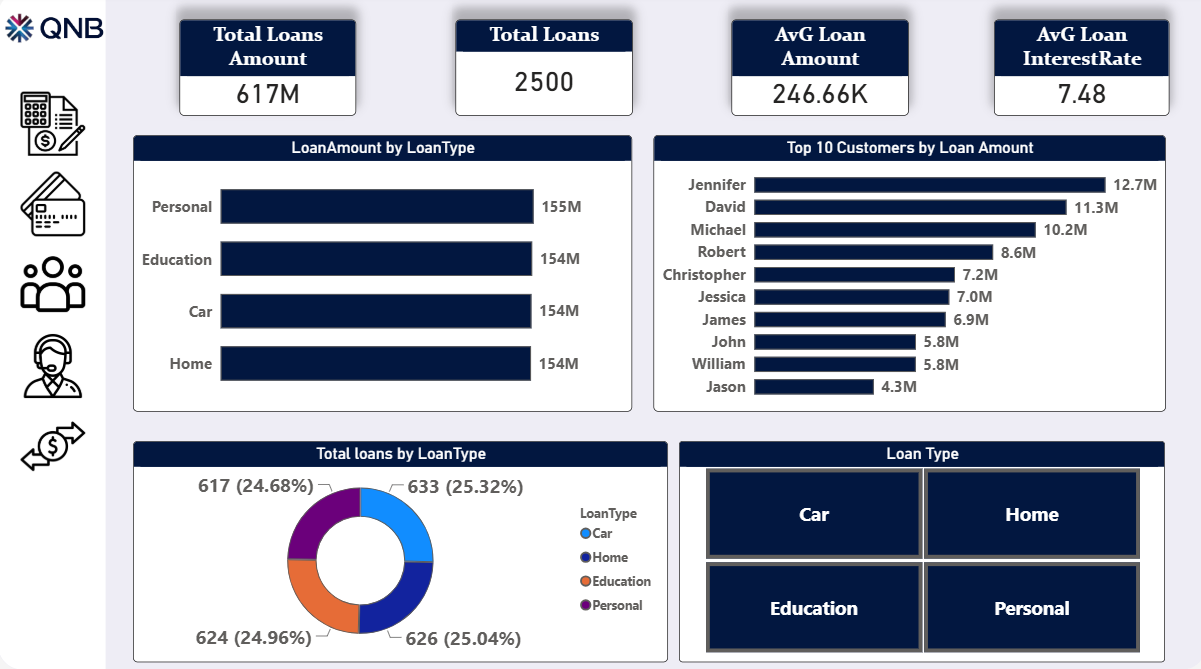

The dashboard page shown, as its layout file describes it:
{"tool":"powerbi","page":{"name":"Loans","canvas":[1280,720],"ordinal":5},"visuals":[{"type":"image","box":[23.9,100.2,68.4,74.8],"z":0},{"type":"image","box":[23.9,175,68.4,95.4],"z":1000},{"type":"image","box":[23.9,270.4,68.4,74.8],"z":2000},{"type":"image","box":[23.9,345.2,68.4,98.6],"z":3000},{"type":"image","box":[23.9,432.6,68.4,93.8],"z":4000},{"type":"image","box":[0,0,117.7,77.9],"z":5000},{"type":"card","title":"Total Loans","fields":{"Values":["_Measure.Total loans"]},"box":[485.1,27,187.7,101.8],"z":6000},{"type":"card","title":"AvG Loan InterestRate","fields":{"Values":["_Measure.AvG Loan InterestRate"]},"box":[1056.2,27,186.1,101.8],"z":7000},{"type":"card","title":"Total Loans Amount","fields":{"Values":["_Measure.Total Loans Amount"]},"box":[192.8,26.8,187.1,102],"z":8000},{"type":"card","title":"AvG Loan Amount","fields":{"Values":["_Measure.AvG Loan Amount"]},"box":[777.8,27,187.7,101.8],"z":9000},{"type":"barChart","title":" LoanAmount by LoanType","fields":{"Y":["Sum(Loans.LoanAmount)"],"Category":["Loans.LoanType"]},"box":[143.1,150,529.3,293.1],"z":10000},{"type":"donutChart","fields":{"Y":["_Measure.Total loans"],"Category":["Loans.LoanType"]},"box":[143.1,474.1,567.2,234.5],"z":11000},{"type":"barChart","title":"Top 10 Customers by Loan Amount ","fields":{"Category":["Customers.FirstName"],"Y":["_Measure.Total Loans Amount"]},"box":[694.8,150,543.1,293.1],"z":12000},{"type":"slicer","title":"Loan Type","fields":{"Values":["Loans.LoanType"]},"box":[722.4,474.1,515.5,234.5],"z":13000}]}

Visuals, with their boxes in screenshot pixels (x1, y1, x2, y2), scaled from the page's 1280x720 canvas onto the 1201x669 screenshot:
image: {"x1": 22, "y1": 93, "x2": 87, "y2": 163}
image: {"x1": 22, "y1": 163, "x2": 87, "y2": 251}
image: {"x1": 22, "y1": 251, "x2": 87, "y2": 321}
image: {"x1": 22, "y1": 321, "x2": 87, "y2": 412}
image: {"x1": 22, "y1": 402, "x2": 87, "y2": 489}
image: {"x1": 0, "y1": 0, "x2": 110, "y2": 72}
"Total Loans" card: {"x1": 455, "y1": 25, "x2": 631, "y2": 120}
"AvG Loan InterestRate" card: {"x1": 991, "y1": 25, "x2": 1166, "y2": 120}
"Total Loans Amount" card: {"x1": 181, "y1": 25, "x2": 356, "y2": 120}
"AvG Loan Amount" card: {"x1": 730, "y1": 25, "x2": 906, "y2": 120}
" LoanAmount by LoanType" barChart: {"x1": 134, "y1": 139, "x2": 631, "y2": 412}
donutChart - _Measure.Total loans x Loans.LoanType: {"x1": 134, "y1": 441, "x2": 666, "y2": 658}
"Top 10 Customers by Loan Amount " barChart: {"x1": 652, "y1": 139, "x2": 1161, "y2": 412}
"Loan Type" slicer: {"x1": 678, "y1": 441, "x2": 1161, "y2": 658}
